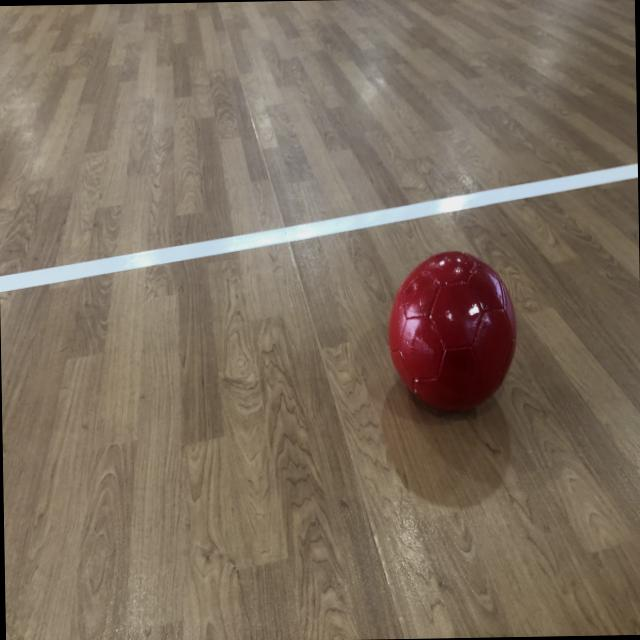red_ball: (386, 250, 518, 414)
